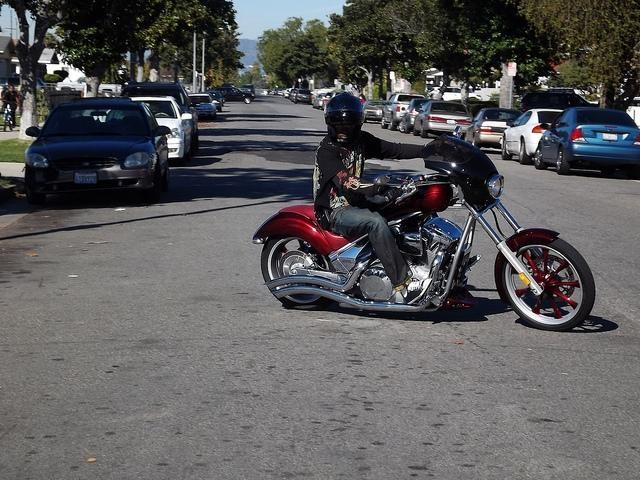car: (24, 96, 172, 207), (532, 105, 640, 176), (130, 96, 194, 167), (500, 108, 565, 166), (458, 106, 522, 150), (414, 100, 472, 138), (520, 91, 600, 112), (379, 92, 424, 128), (214, 86, 255, 103), (188, 93, 216, 117), (200, 91, 224, 112), (363, 100, 386, 121), (287, 88, 313, 105)
motorcycle: (255, 132, 596, 328)
